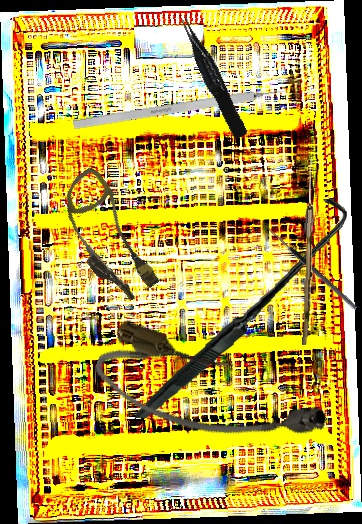Cannula: (86, 314, 335, 476), (41, 164, 174, 310)
Hook Surgical: (119, 197, 360, 419), (72, 84, 296, 130), (256, 221, 359, 315)
Surgical Spoon: (302, 157, 315, 346)
Tissue Forceps: (178, 12, 248, 142)
